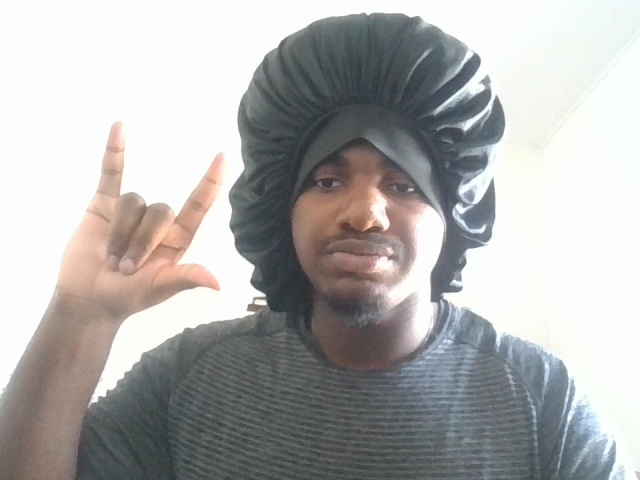I Love You: (29, 98, 245, 319)
